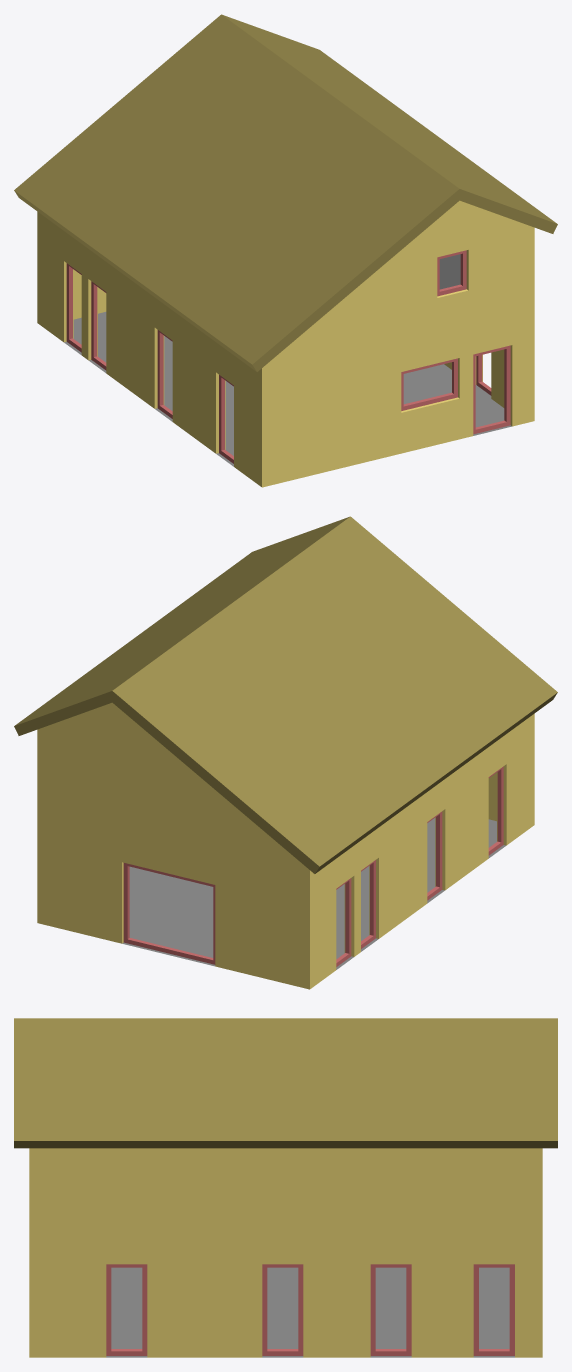
Rendered from result.glb.
The picture shows the model from 3 angles, top to bottom: view 1: azimuth 30°, elevation 25°; view 2: azimuth 150°, elevation 25°; view 3: azimuth 270°, elevation 25°; orthographic projection. The views are drawn at different scales.
Parts seen in each view (by area): view 1: 7d74052b-1f42-48ac-9ec7-caca27870b5b__undefined (×2), 5124c161-fe37-47b4-9959-fd397cd3c7bd__undefined, 39eedd41-ebb1-4253-8dc7-ce44ed2f9288__Plane_20, c0882513-7514-484c-8542-6272aa5bf3a8__Box, c7d300aa-d8df-421f-969c-939ab0dae343__Box_3, c03d53e4-98cb-4d0a-b270-ed1b006746c9__Box_60, 8283c6d0-370e-438d-a3de-2711179e2846__Box_21, 0e2194e1-d947-4815-9462-9ee4d37d0fdc__Box_18, ceaa0e38-798b-4a7c-8e9c-b0707a5f80f9__Box_15, 915276a3-3c82-47c5-b9f9-a35d9bb642f3__Box_6; view 2: 7d74052b-1f42-48ac-9ec7-caca27870b5b__undefined (×2), 5124c161-fe37-47b4-9959-fd397cd3c7bd__undefined, 39eedd41-ebb1-4253-8dc7-ce44ed2f9288__Plane_20, e98a989f-aa4d-43c1-af35-162b2665ebeb__Box_9, ceaa0e38-798b-4a7c-8e9c-b0707a5f80f9__Box_15, 8283c6d0-370e-438d-a3de-2711179e2846__Box_21, 495299d8-e4ce-4c55-a88e-0d15c8b40047__Box_12; view 3: 5124c161-fe37-47b4-9959-fd397cd3c7bd__undefined, 7d74052b-1f42-48ac-9ec7-caca27870b5b__undefined, 39eedd41-ebb1-4253-8dc7-ce44ed2f9288__Plane_20, 009d346f-c507-4ea5-af31-2616055b323d__Box_36, 87b099dd-c78b-45fb-98f5-c13f67739226__Box_39, 95793fb1-7c25-43d8-9fe8-db9a24d76ad8__Box_42, 5b039f1d-b7c1-46a2-b57d-f781e6f0cb0a__Box_45.
Boxes of the visible parts, left/top/right/bottom form: 7d74052b-1f42-48ac-9ec7-caca27870b5b__undefined (×2): left=14, top=14, right=557, bottom=371; 5124c161-fe37-47b4-9959-fd397cd3c7bd__undefined: left=37, top=200, right=534, bottom=487; 39eedd41-ebb1-4253-8dc7-ce44ed2f9288__Plane_20: left=64, top=312, right=511, bottom=466; c0882513-7514-484c-8542-6272aa5bf3a8__Box: left=473, top=345, right=510, bottom=434; c7d300aa-d8df-421f-969c-939ab0dae343__Box_3: left=401, top=358, right=457, bottom=410; c03d53e4-98cb-4d0a-b270-ed1b006746c9__Box_60: left=439, top=254, right=460, bottom=289; 8283c6d0-370e-438d-a3de-2711179e2846__Box_21: left=66, top=263, right=81, bottom=352; 0e2194e1-d947-4815-9462-9ee4d37d0fdc__Box_18: left=91, top=281, right=106, bottom=370; ceaa0e38-798b-4a7c-8e9c-b0707a5f80f9__Box_15: left=157, top=330, right=172, bottom=418; 915276a3-3c82-47c5-b9f9-a35d9bb642f3__Box_6: left=437, top=250, right=466, bottom=296; 7d74052b-1f42-48ac-9ec7-caca27870b5b__undefined (×2): left=14, top=516, right=557, bottom=873; 5124c161-fe37-47b4-9959-fd397cd3c7bd__undefined: left=37, top=702, right=534, bottom=989; 39eedd41-ebb1-4253-8dc7-ce44ed2f9288__Plane_20: left=122, top=818, right=505, bottom=969; e98a989f-aa4d-43c1-af35-162b2665ebeb__Box_9: left=123, top=863, right=215, bottom=964; ceaa0e38-798b-4a7c-8e9c-b0707a5f80f9__Box_15: left=427, top=811, right=442, bottom=900; 8283c6d0-370e-438d-a3de-2711179e2846__Box_21: left=336, top=878, right=351, bottom=966; 495299d8-e4ce-4c55-a88e-0d15c8b40047__Box_12: left=488, top=766, right=503, bottom=855; 5124c161-fe37-47b4-9959-fd397cd3c7bd__undefined: left=29, top=1148, right=542, bottom=1357; 7d74052b-1f42-48ac-9ec7-caca27870b5b__undefined: left=14, top=1018, right=557, bottom=1148; 39eedd41-ebb1-4253-8dc7-ce44ed2f9288__Plane_20: left=106, top=1267, right=514, bottom=1357; 009d346f-c507-4ea5-af31-2616055b323d__Box_36: left=106, top=1264, right=147, bottom=1355; 87b099dd-c78b-45fb-98f5-c13f67739226__Box_39: left=262, top=1264, right=303, bottom=1355; 95793fb1-7c25-43d8-9fe8-db9a24d76ad8__Box_42: left=370, top=1264, right=411, bottom=1355; 5b039f1d-b7c1-46a2-b57d-f781e6f0cb0a__Box_45: left=473, top=1264, right=514, bottom=1355.
Bounding box in the file's own units: 785 × 631 × 1060.
